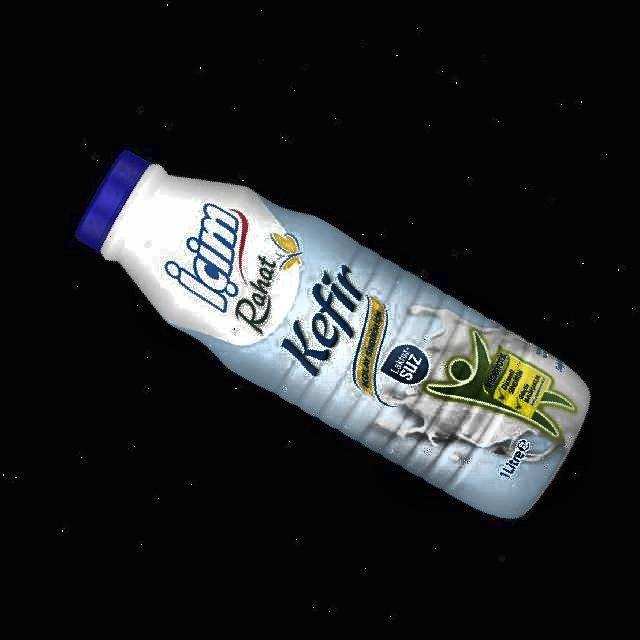plastic: (76, 151, 589, 517)
